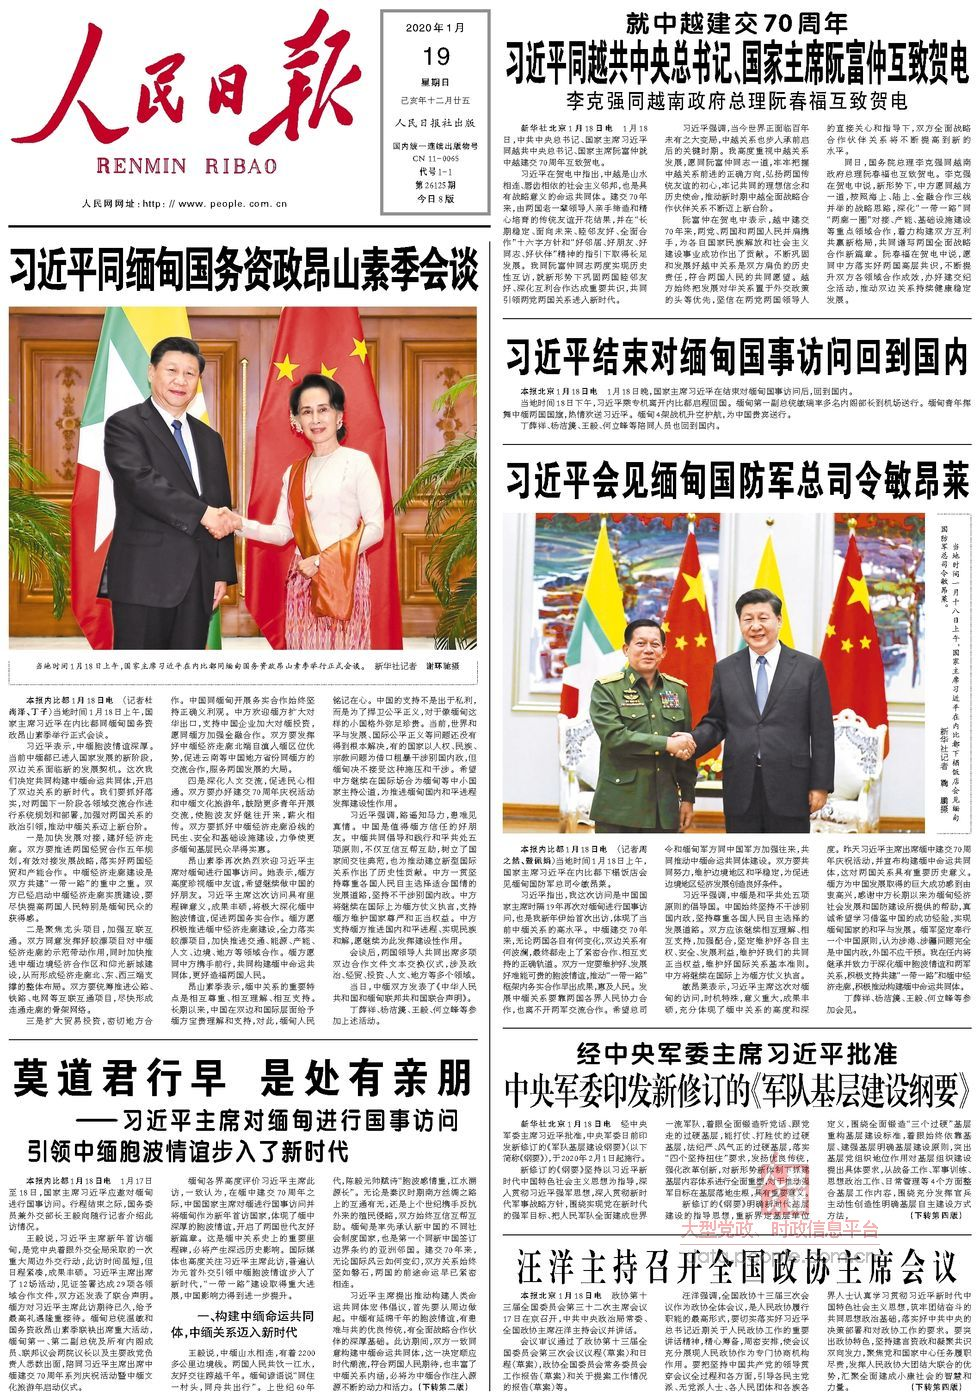pic: (5, 301, 480, 656), (497, 510, 934, 841)
